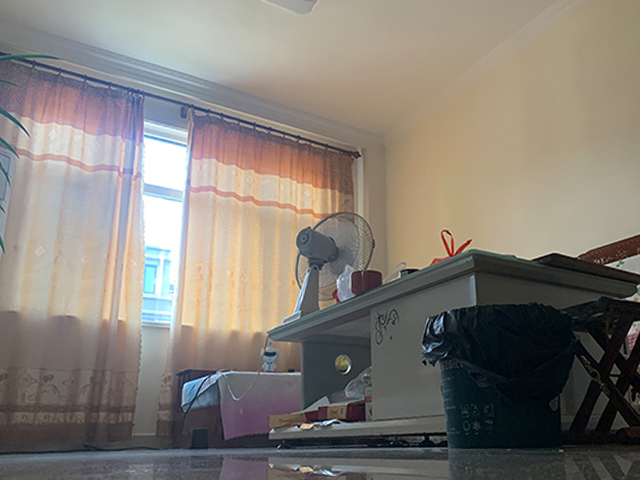curtain: (155, 107, 356, 449), (1, 56, 145, 452)
sofa: (175, 368, 301, 449)
stool: (563, 295, 640, 447)
table: (266, 248, 640, 451)
trashcan: (424, 302, 568, 452)
wire: (76, 431, 182, 452)
